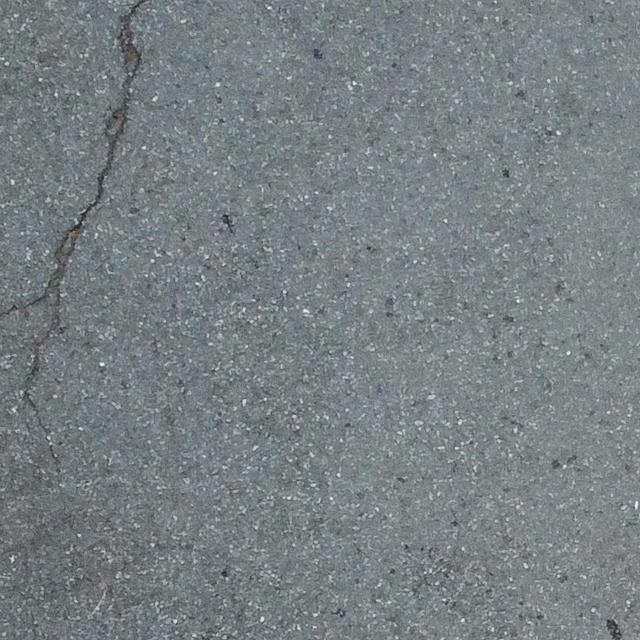LongitudinalCrack: (2, 1, 148, 461)
